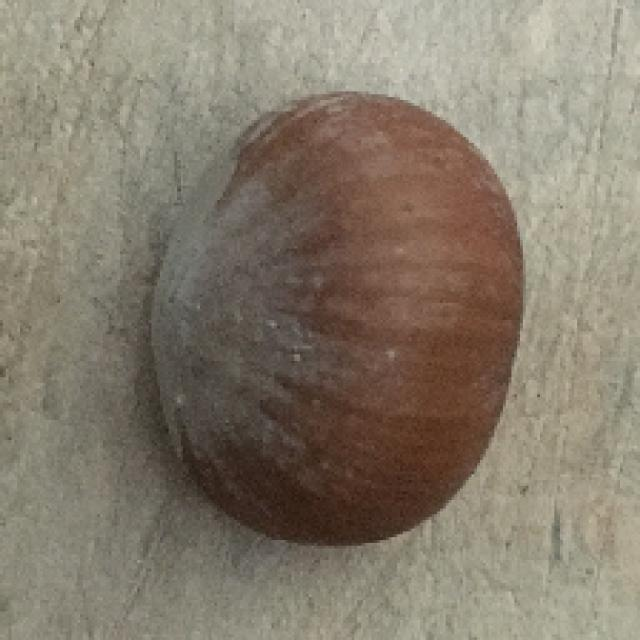qualityHazelnut: (145, 93, 533, 541)
